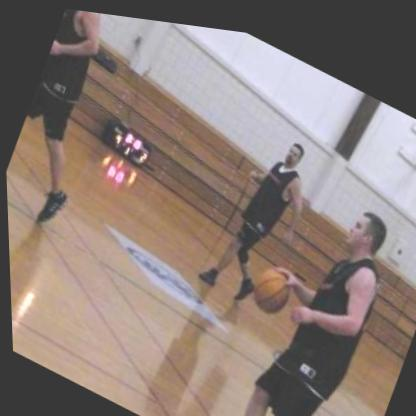basketball: (239, 246, 306, 320)
